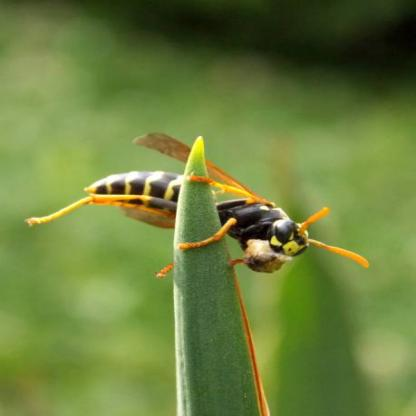sawfly: (26, 125, 380, 292)
